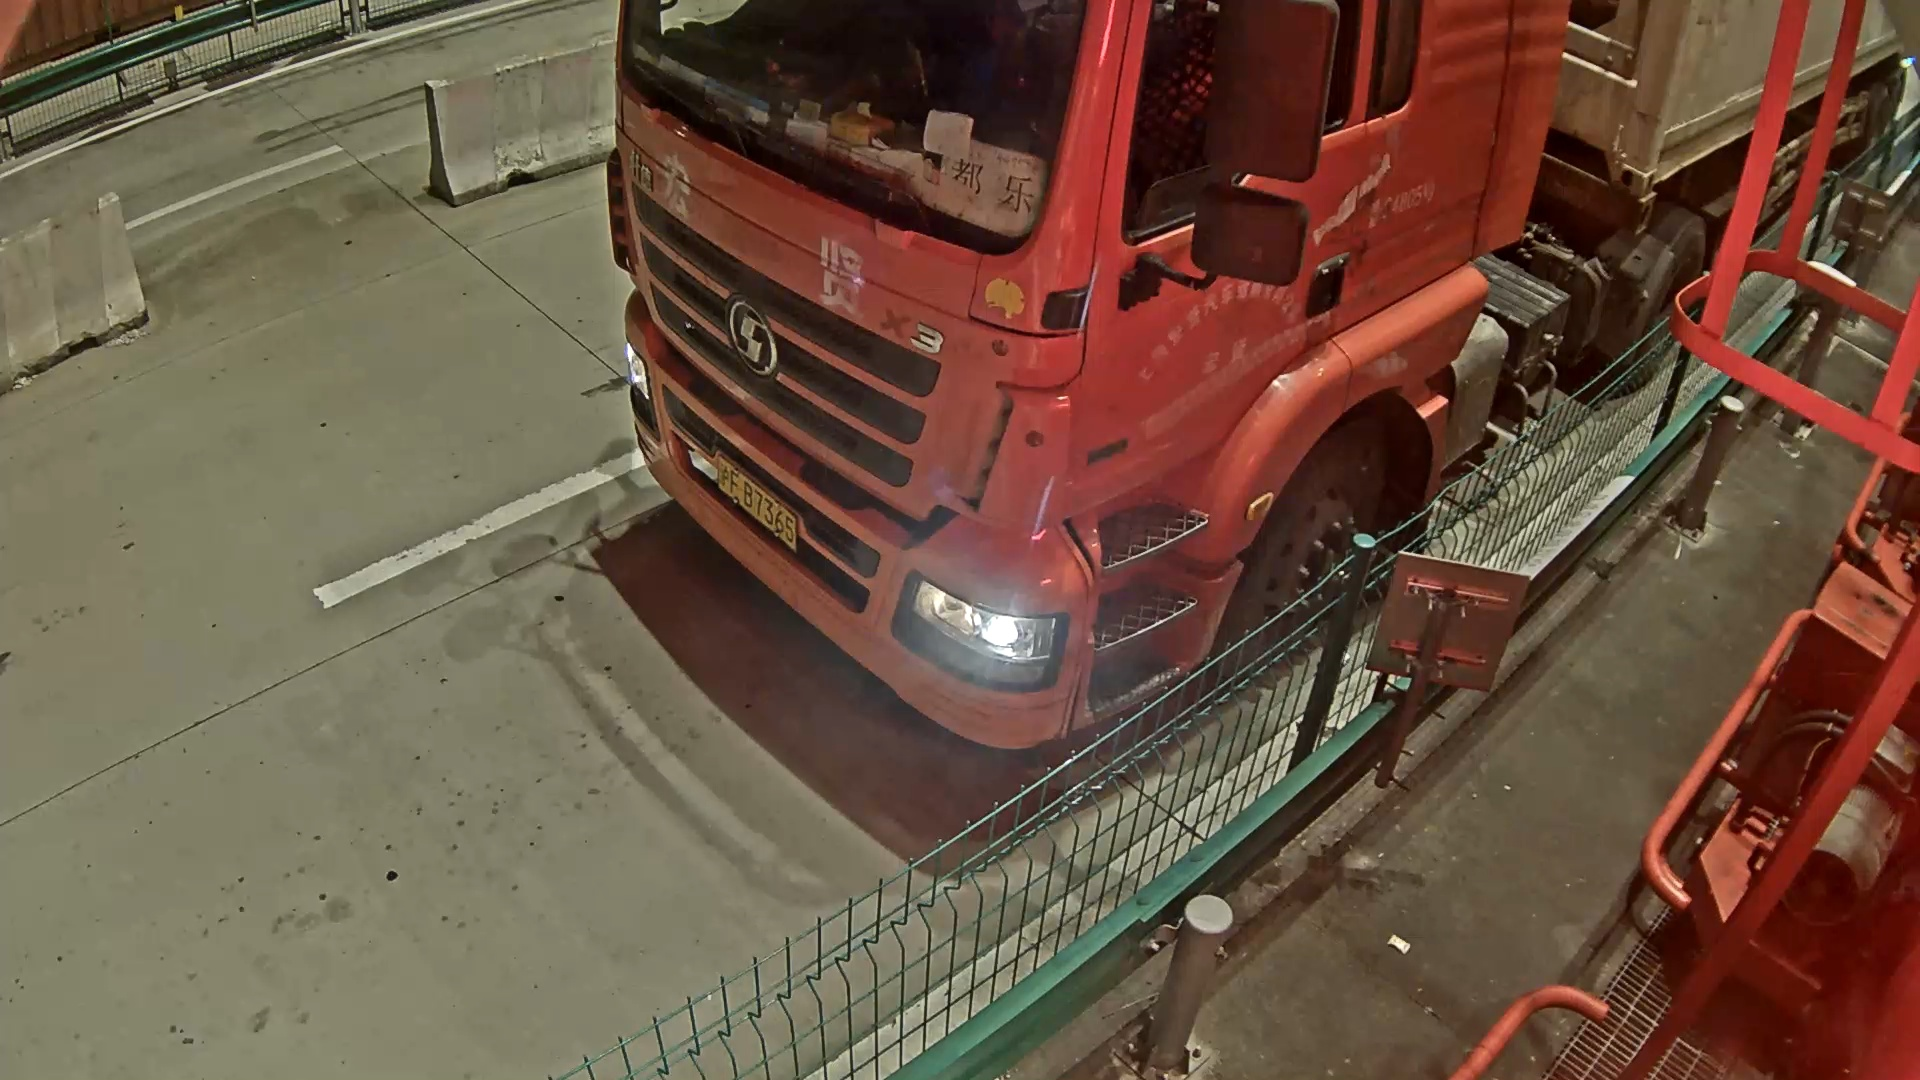head: (603, 1, 1568, 749)
plate: (714, 452, 797, 555)
